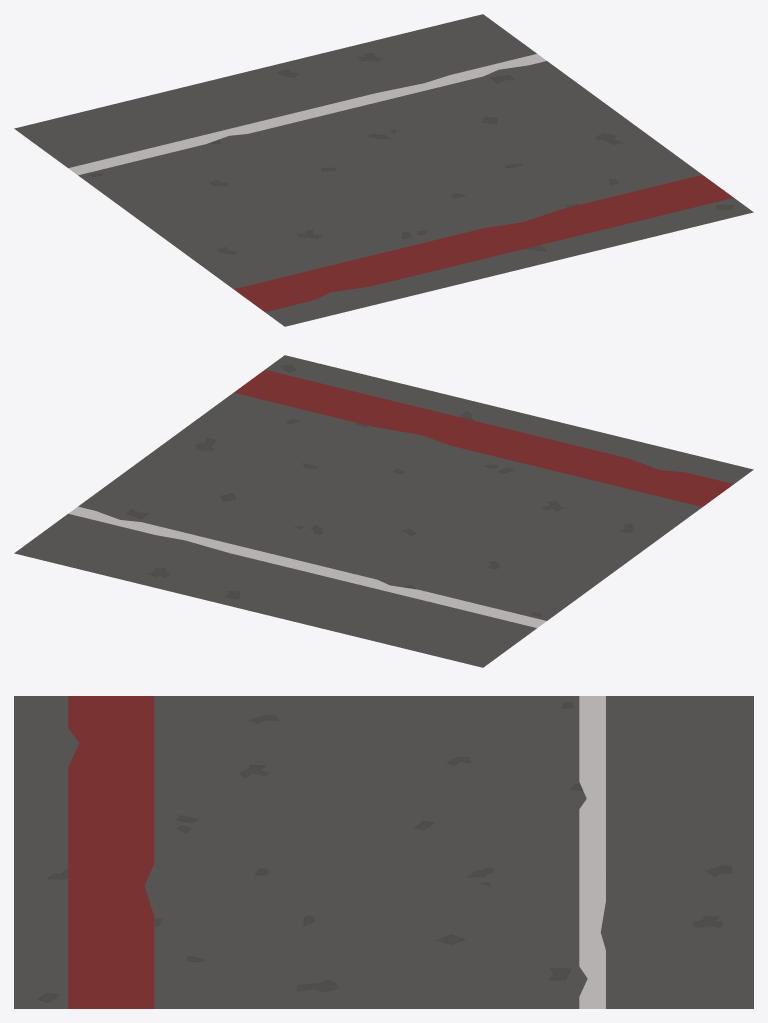
The model's file is SM_Env_Ground_Lines_Edge_01.fbx.
The picture shows the model from 3 angles, top to bottom: view 1: azimuth 30°, elevation 25°; view 2: azimuth 150°, elevation 25°; view 3: azimuth 270°, elevation 25°; orthographic projection. The views are drawn at different scales.
Parts seen in each view (by area): view 1: SM_Env_Ground_Lines_Edge_01; view 2: SM_Env_Ground_Lines_Edge_01; view 3: SM_Env_Ground_Lines_Edge_01.
Boxes of the visible parts, <box> form: SM_Env_Ground_Lines_Edge_01: <box>14,14,753,326</box>; SM_Env_Ground_Lines_Edge_01: <box>14,355,753,667</box>; SM_Env_Ground_Lines_Edge_01: <box>14,696,753,1008</box>.
Size of the model in its own units: 1000 by 0 by 1000.
